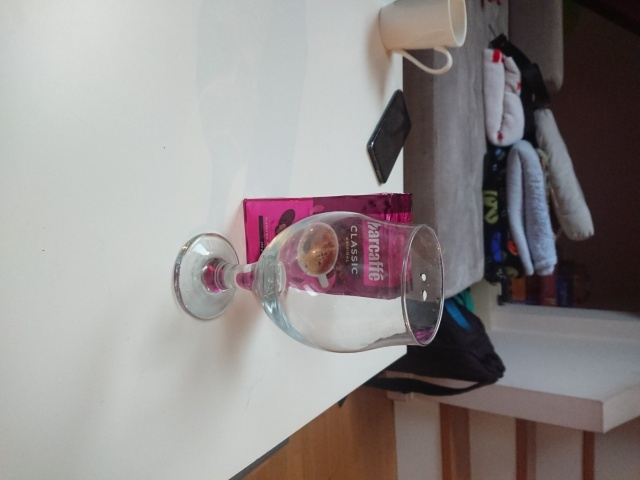Barcaffe Classic Original 225g: (241, 190, 416, 302)
